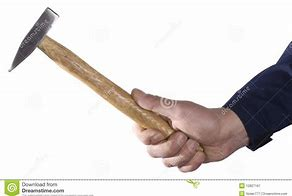hammer: (7, 5, 209, 173)
